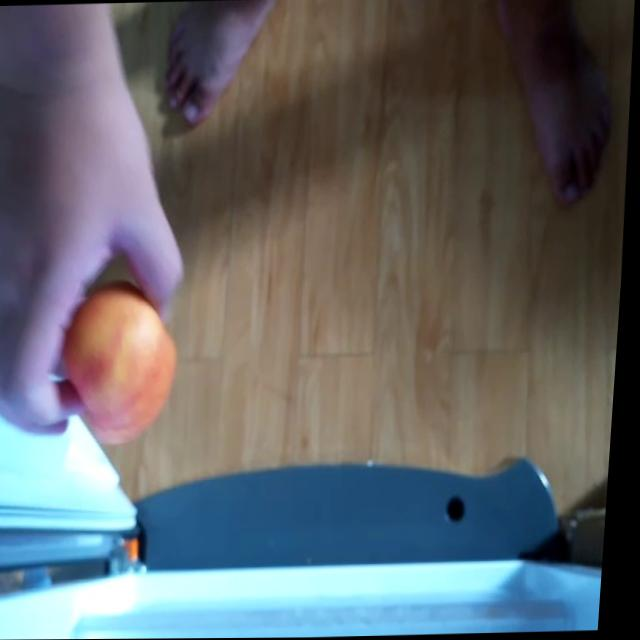apple: (59, 285, 190, 448)
